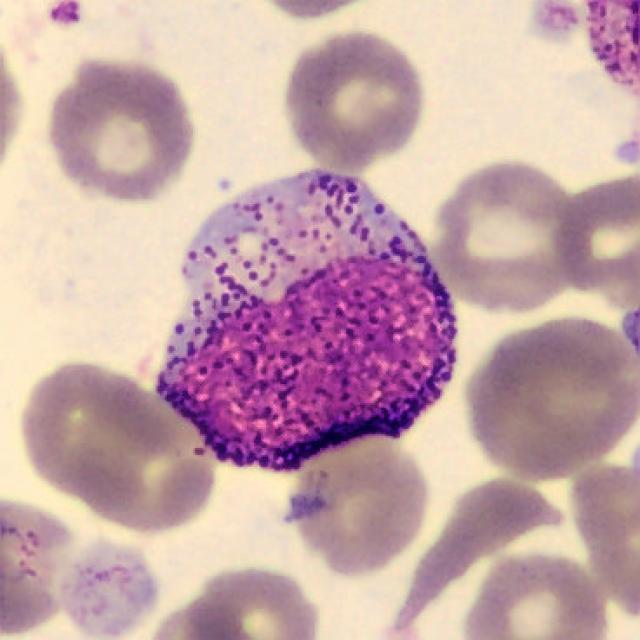Promielocito: (151, 171, 459, 474)
